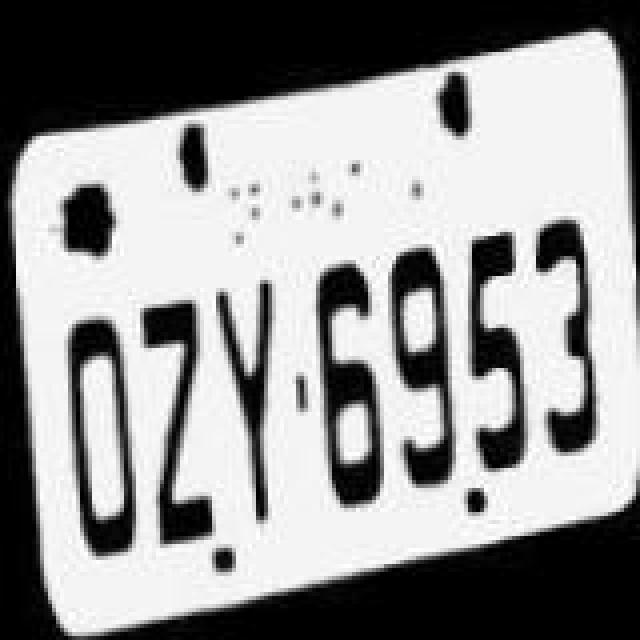3: (520, 196, 608, 460)
5: (446, 200, 538, 472)
6: (308, 250, 392, 514)
9: (374, 232, 454, 492)
O: (54, 306, 150, 574)
Y: (208, 268, 292, 540)
Z: (132, 286, 220, 554)
